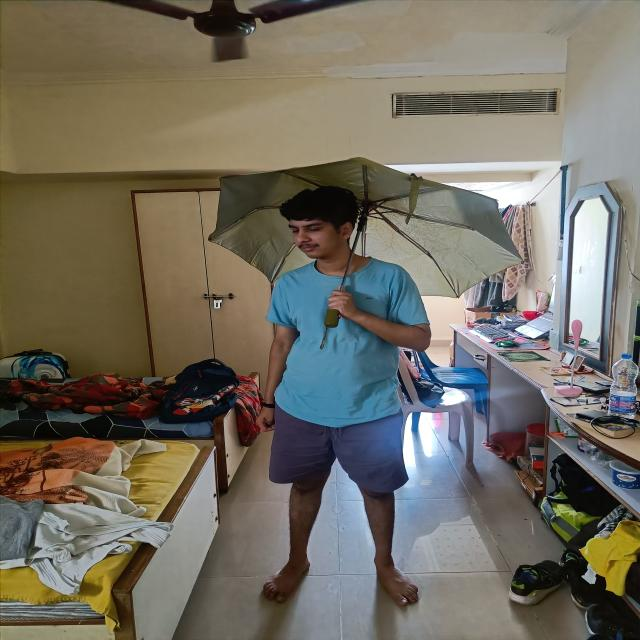umbrella: (212, 157, 526, 297)
